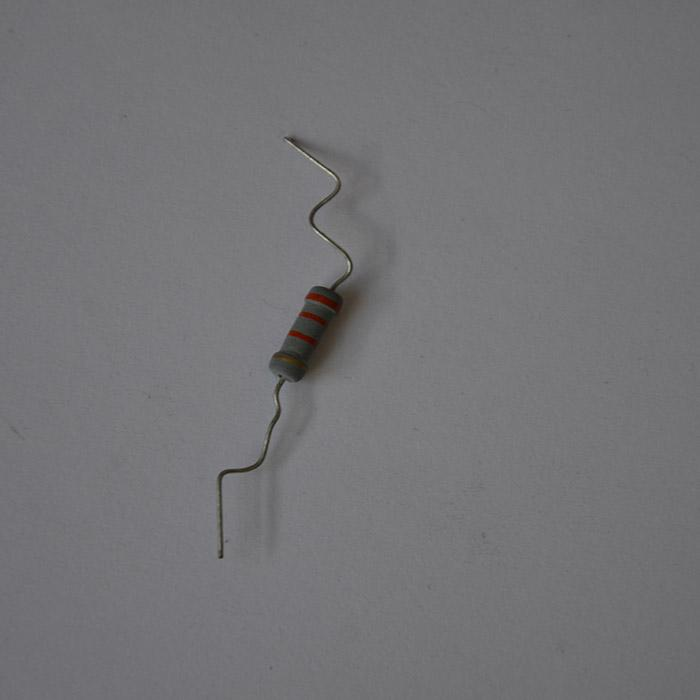resistor: (269, 284, 344, 383)
